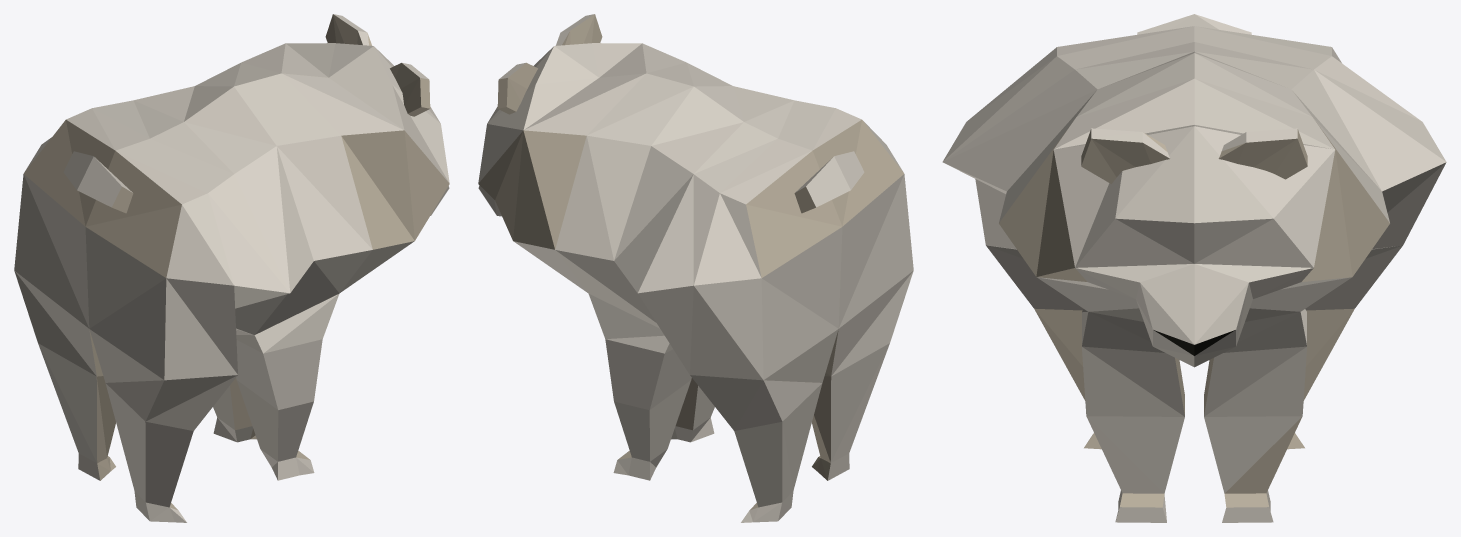
Rendered from polar-bear.glb.
3 renders of one model, left to right at view 1: azimuth 30°, elevation 25°; view 2: azimuth 150°, elevation 25°; view 3: azimuth 270°, elevation 25°, orthographic. The views are drawn at different scales.
Size of the model in its own units: 1 by 1 by 1.
